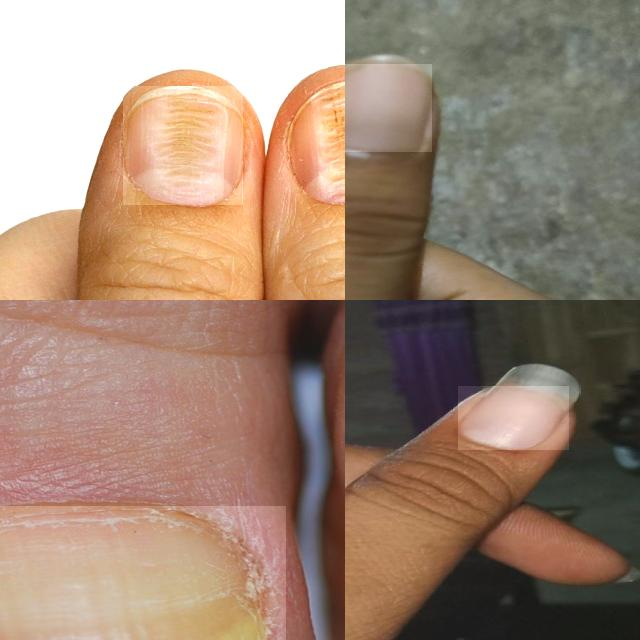diabetes: (0, 506, 258, 640), (124, 87, 243, 205), (287, 83, 345, 204)
sehat: (345, 64, 432, 152), (459, 386, 569, 450)
